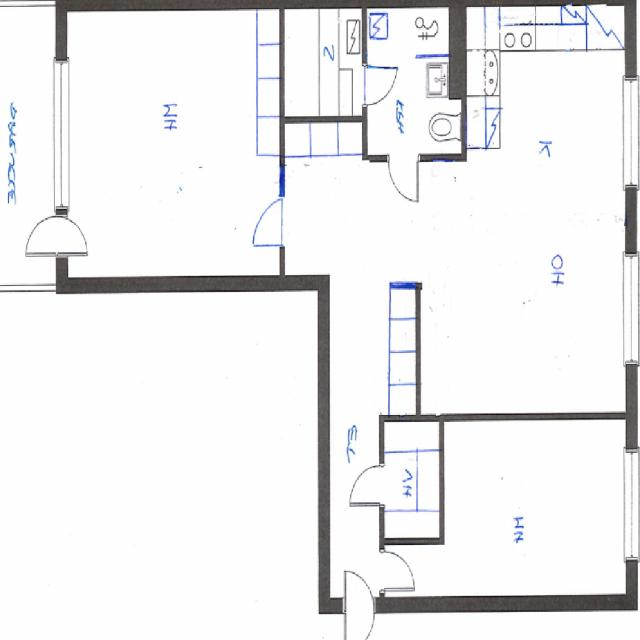door: (246, 199, 286, 245), (345, 556, 375, 612), (27, 216, 69, 254), (57, 216, 98, 254), (362, 65, 397, 105), (389, 154, 419, 200), (380, 551, 414, 591), (351, 465, 385, 505), (346, 596, 375, 640)
